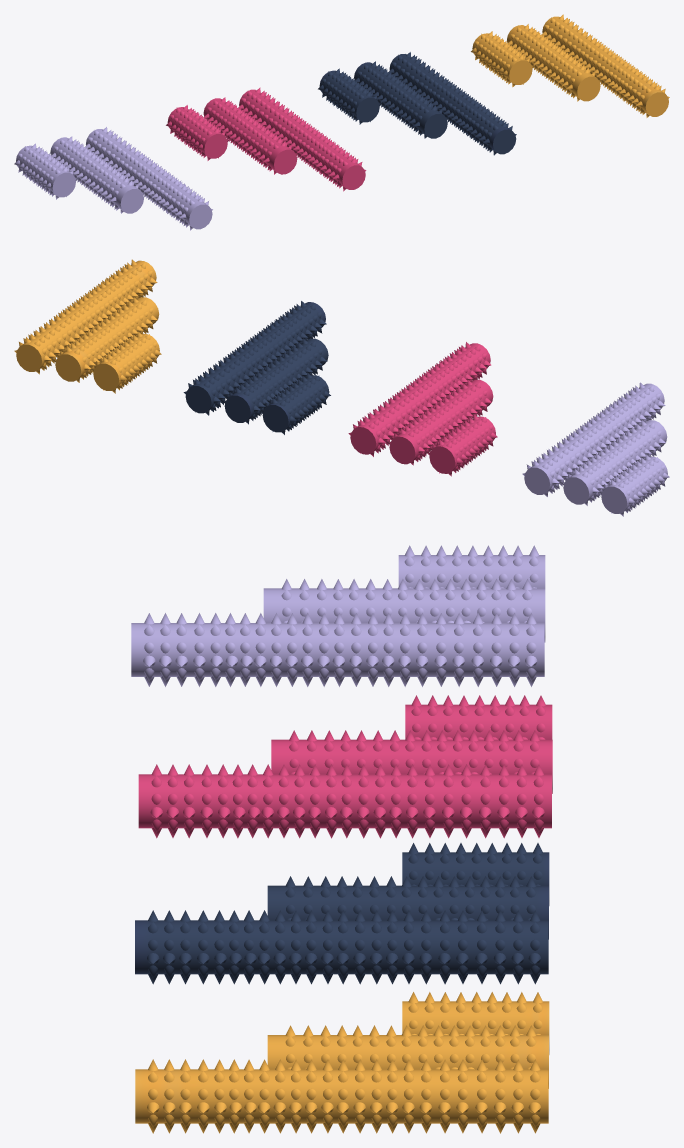
File: Blocky Out_Exit.fbx
3 renders of one model, top to bottom at view 1: azimuth 30°, elevation 25°; view 2: azimuth 150°, elevation 25°; view 3: azimuth 270°, elevation 25°, orthographic. The views are drawn at different scales.
Parts seen in each view (by area): view 1: Exit_hong, Exit_vang, Exit_xanh, Exit_tim, Exit_hong.001, Exit_tim.001, Exit_xanh.001, Exit_vang.001, Exit_tim.002, Exit_hong.002, Exit_xanh.002, Exit_vang.002; view 2: Exit_xanh, Exit_vang, Exit_hong, Exit_tim, Exit_hong.001, Exit_tim.001, Exit_vang.001, Exit_xanh.001, Exit_tim.002, Exit_vang.002, Exit_hong.002, Exit_xanh.002; view 3: Exit_vang, Exit_hong, Exit_xanh, Exit_tim, Exit_xanh.001, Exit_hong.001, Exit_tim.001, Exit_vang.001, Exit_hong.002, Exit_xanh.002, Exit_vang.002, Exit_tim.002.
Part boxes in pixels (x1,y1,x2,y2): Exit_hong: [239, 87, 366, 191]; Exit_vang: [542, 14, 669, 117]; Exit_xanh: [389, 52, 516, 155]; Exit_tim: [85, 127, 212, 230]; Exit_hong.001: [203, 97, 297, 174]; Exit_tim.001: [50, 136, 143, 213]; Exit_xanh.001: [354, 61, 447, 138]; Exit_vang.001: [507, 24, 600, 101]; Exit_tim.002: [14, 143, 77, 199]; Exit_hong.002: [166, 105, 229, 160]; Exit_xanh.002: [318, 68, 381, 124]; Exit_vang.002: [471, 31, 533, 87]; Exit_xanh: [183, 301, 326, 415]; Exit_vang: [14, 259, 157, 374]; Exit_hong: [348, 342, 491, 456]; Exit_tim: [522, 382, 665, 496]; Exit_hong.001: [389, 379, 493, 465]; Exit_tim.001: [563, 420, 667, 505]; Exit_vang.001: [55, 297, 159, 382]; Exit_xanh.001: [224, 338, 328, 424]; Exit_tim.002: [599, 454, 669, 516]; Exit_vang.002: [91, 331, 161, 393]; Exit_hong.002: [427, 414, 497, 476]; Exit_xanh.002: [261, 372, 330, 434]; Exit_vang: [135, 1059, 548, 1133]; Exit_hong: [138, 764, 551, 838]; Exit_xanh: [135, 910, 548, 984]; Exit_tim: [131, 613, 544, 686]; Exit_xanh.001: [267, 876, 548, 939]; Exit_hong.001: [271, 730, 552, 793]; Exit_tim.001: [263, 579, 545, 642]; Exit_vang.001: [267, 1025, 548, 1088]; Exit_hong.002: [405, 695, 552, 739]; Exit_xanh.002: [402, 843, 549, 905]; Exit_vang.002: [402, 992, 549, 1054]; Exit_tim.002: [398, 545, 545, 588].
Bounding box in the file's own units: 19.9 × 6.47 × 1.06.
Materials: 1 (1 with a texture image).
